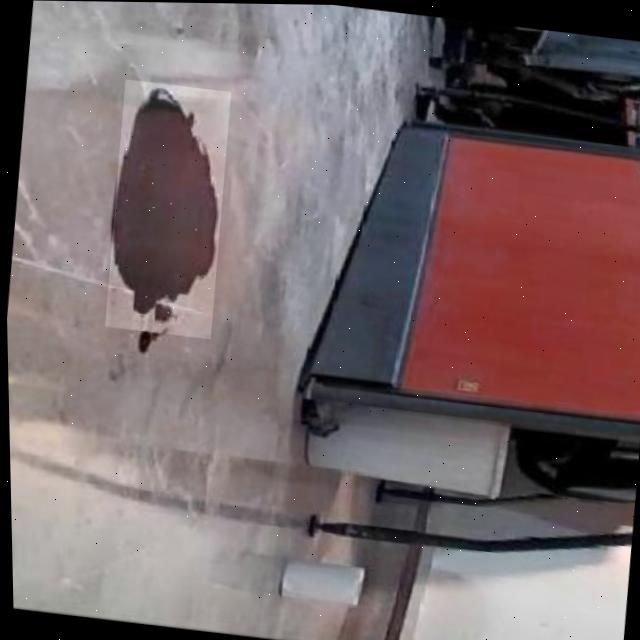spillage: (112, 83, 215, 331)
